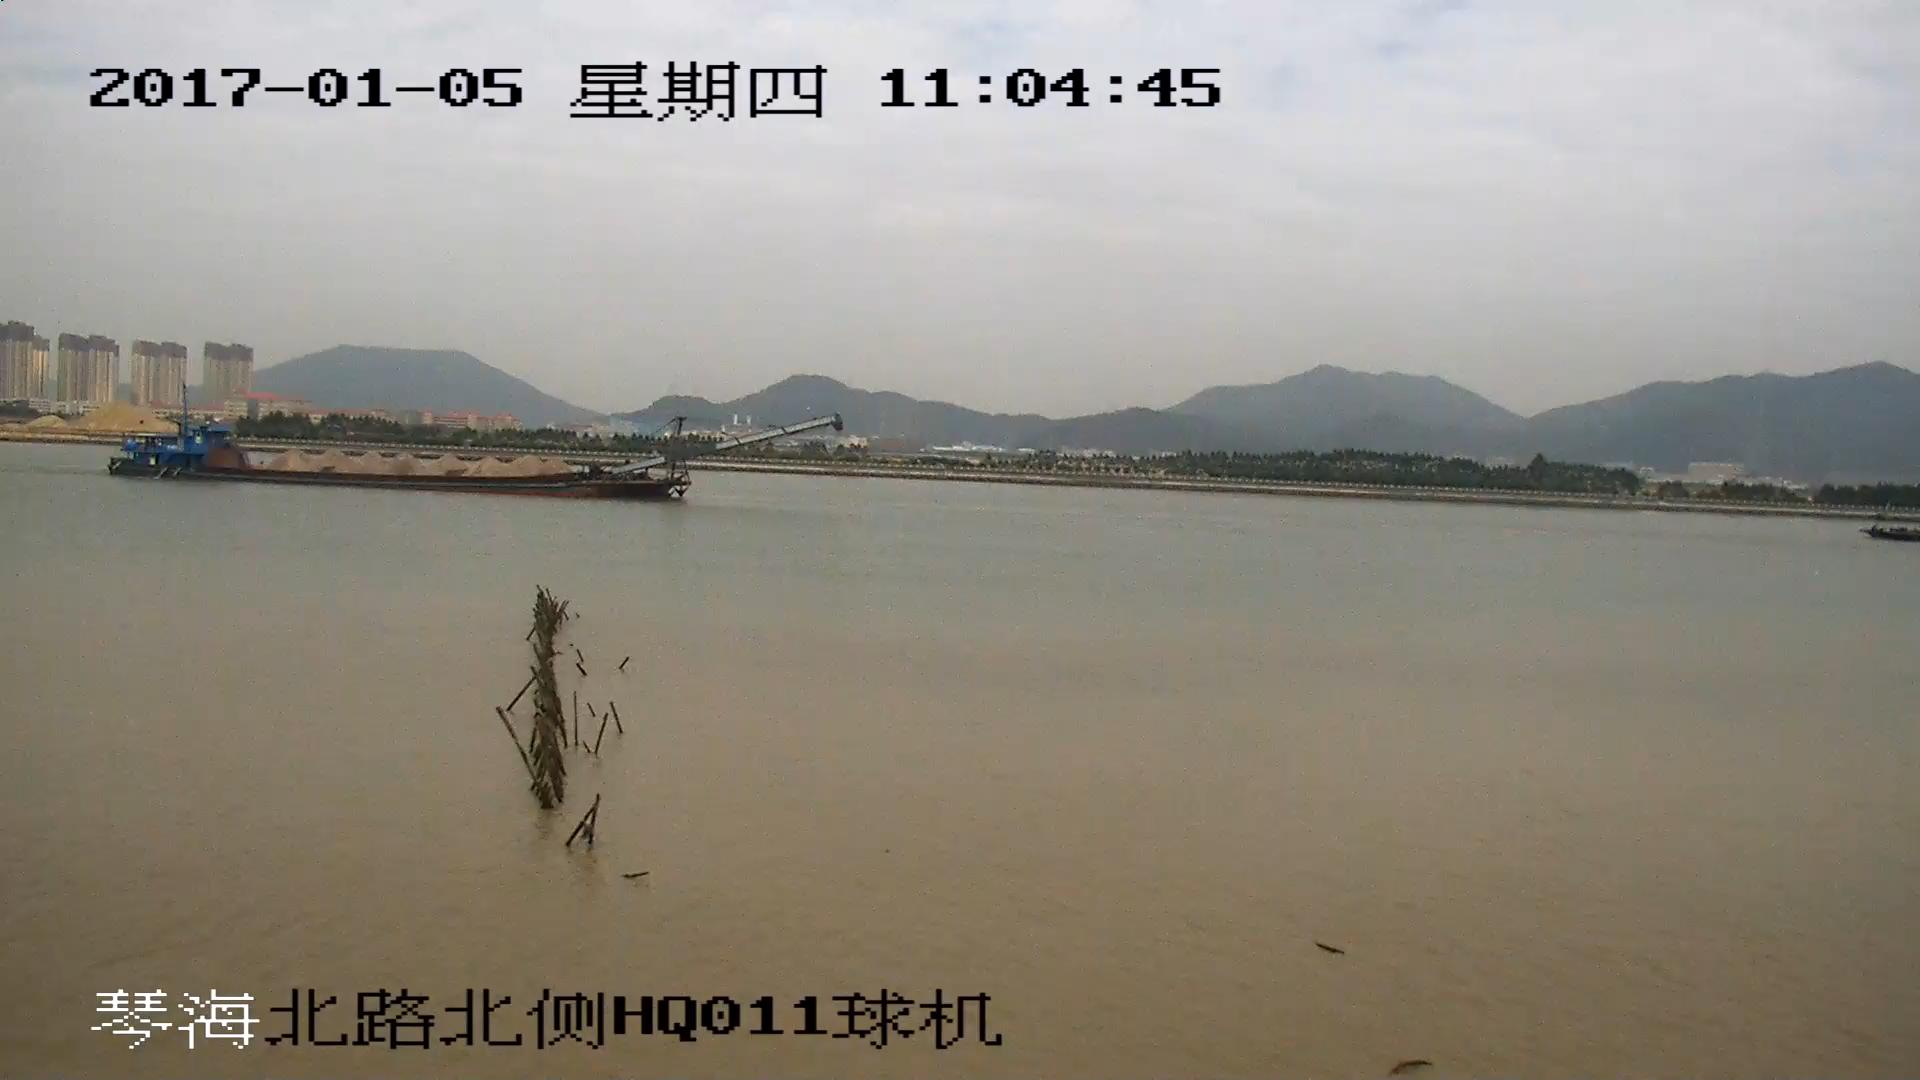ore carrier: (106, 416, 832, 504)
